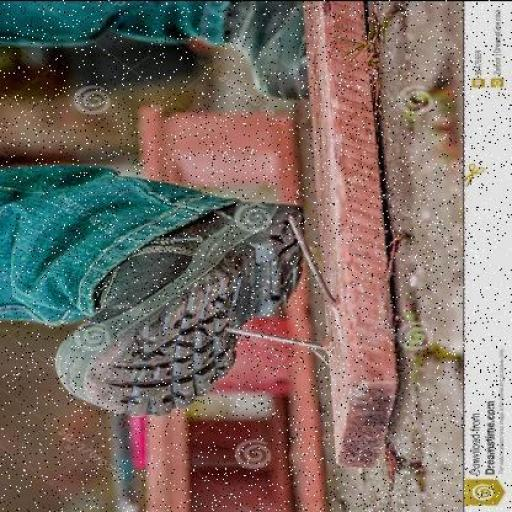safety_shoe: (70, 199, 304, 418), (214, 0, 312, 102)
